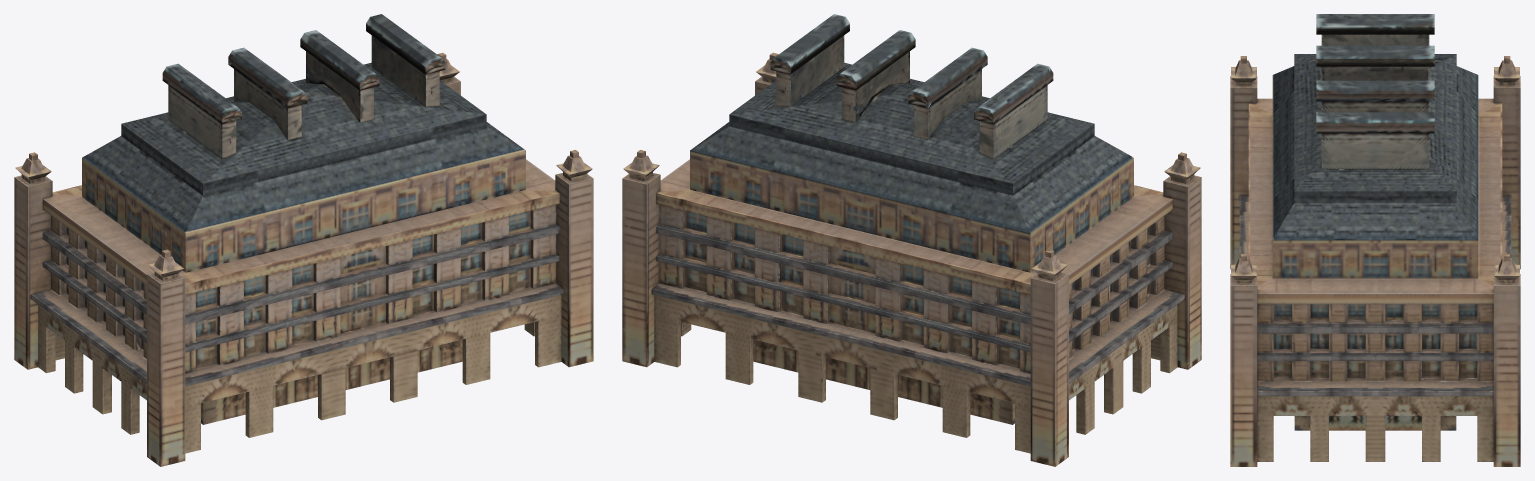
The model's file is otel.fbx.
3 renders of one model, left to right at view 1: azimuth 30°, elevation 25°; view 2: azimuth 150°, elevation 25°; view 3: azimuth 270°, elevation 25°, orthographic.
Parts seen in each view (by area): view 1: building_hotel; view 2: building_hotel; view 3: building_hotel.
Part boxes in pixels (bbox=[...]): building_hotel: bbox=[14, 14, 593, 466]; building_hotel: bbox=[622, 14, 1201, 466]; building_hotel: bbox=[1230, 14, 1520, 466].
Bounding box in the file's own units: 851 × 560 × 498.
1 material, 1 textured.
